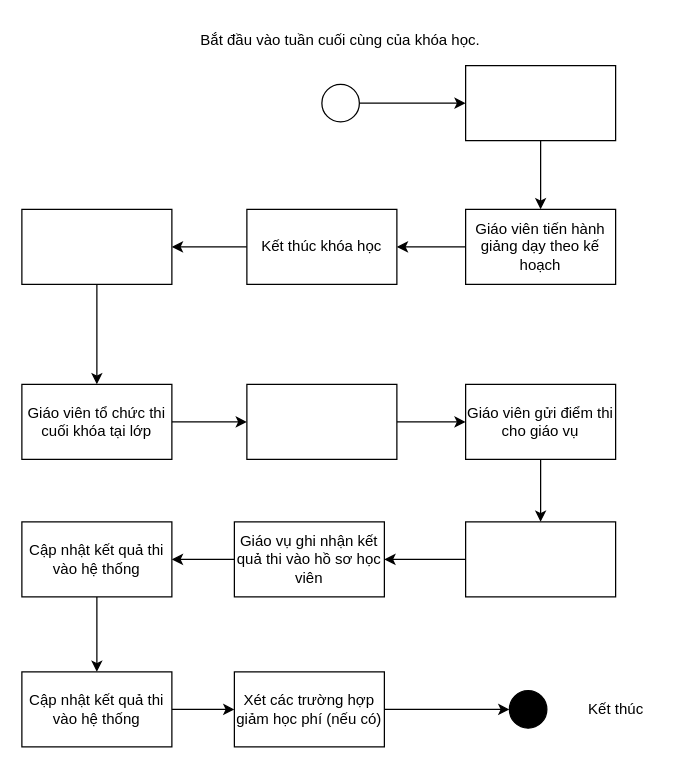
Some shapes in this 681 by 769 pixel diagram are drawn without their labels. The shapes that lost their labels are listed below. From the top down, each one's centre as x and y in pixels, then its label:
At point 540,102: "Giáo viên thông báo lịch thi cuối khóa".
At point 96,246: "Học viên hoàn thành khóa học".
At point 321,421: "Giáo viên chấm bài thi".
At point 540,559: "Giáo vụ nhận điểm thi từ giáo viên".
